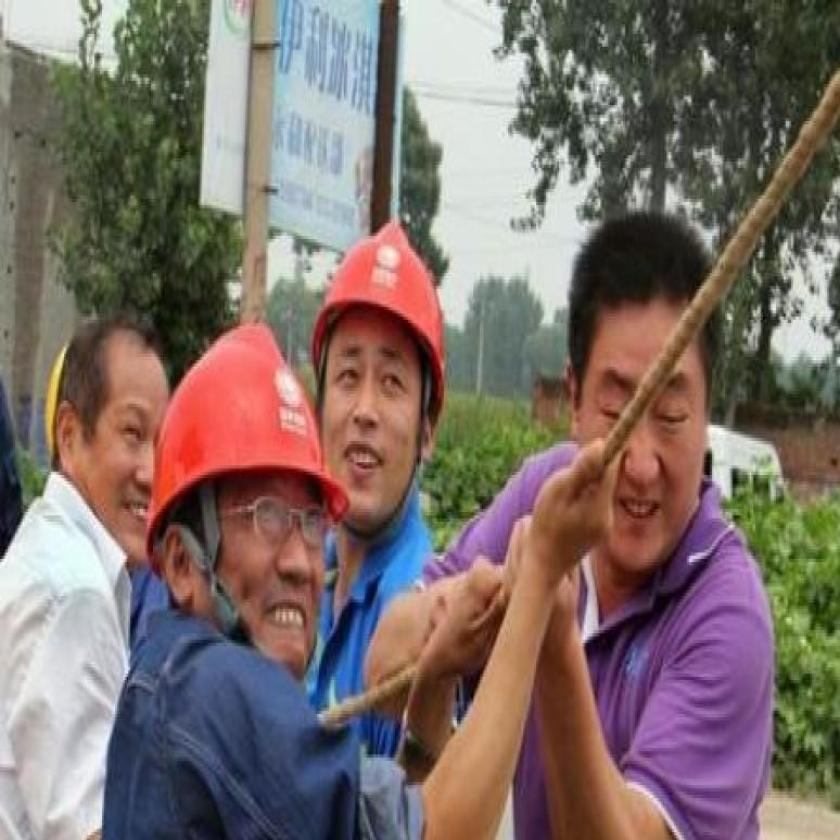Con_casco: (157, 312, 336, 682), (306, 159, 463, 538)
Sin_casco: (554, 198, 720, 580), (51, 318, 176, 577)
